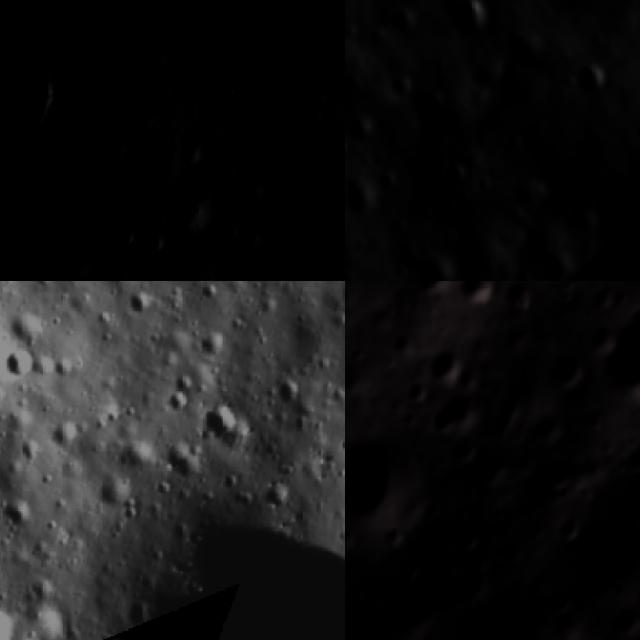crater: (345, 411, 436, 557), (258, 149, 345, 281), (422, 365, 509, 454), (586, 284, 640, 423), (446, 424, 533, 499), (0, 43, 59, 150), (535, 342, 596, 406), (439, 513, 488, 566), (384, 547, 432, 598), (439, 0, 492, 45), (512, 168, 560, 217), (193, 397, 244, 443), (163, 187, 211, 233), (496, 281, 544, 326), (453, 281, 508, 319), (409, 246, 467, 281), (550, 499, 592, 547), (577, 58, 617, 107), (510, 24, 550, 73), (401, 281, 467, 310), (414, 86, 458, 126), (95, 474, 139, 512), (90, 249, 134, 281), (5, 344, 43, 379), (2, 497, 41, 531), (262, 476, 301, 510), (393, 0, 427, 37), (75, 0, 126, 24), (272, 369, 306, 402), (91, 620, 140, 640), (142, 229, 178, 255), (563, 263, 606, 281), (120, 223, 142, 256), (443, 162, 469, 188), (624, 207, 640, 244), (0, 194, 13, 239)
